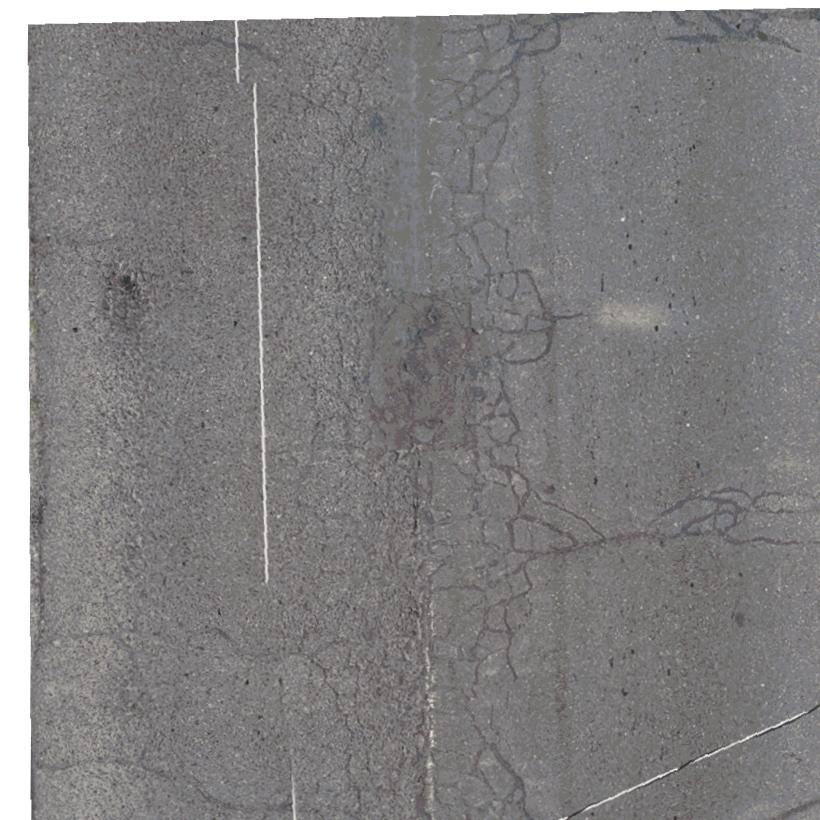GRIETA: (32, 755, 181, 791), (192, 774, 296, 813), (606, 531, 642, 544)
PIEL DE COCODRILO: (286, 19, 607, 819), (88, 261, 196, 581), (643, 484, 819, 550)
